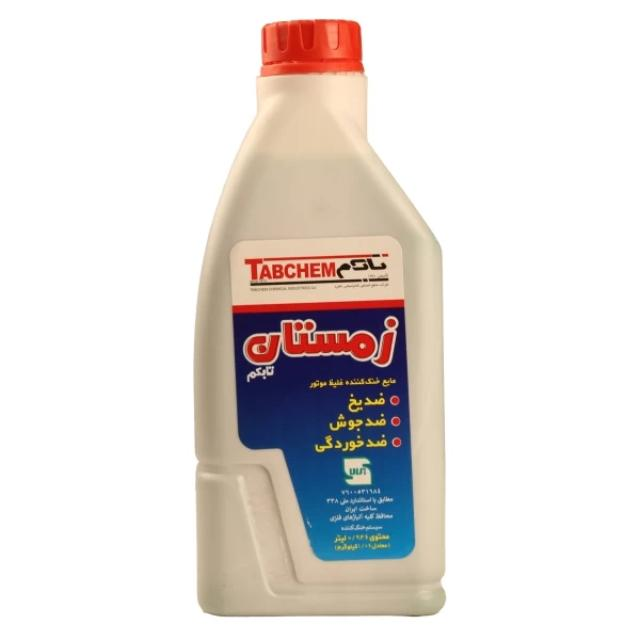coolant: (186, 14, 452, 623)
